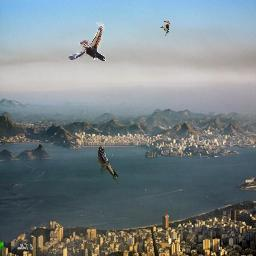Swallow: (98, 146, 119, 186)
Woodpecker: (68, 21, 106, 61), (160, 21, 170, 36)
